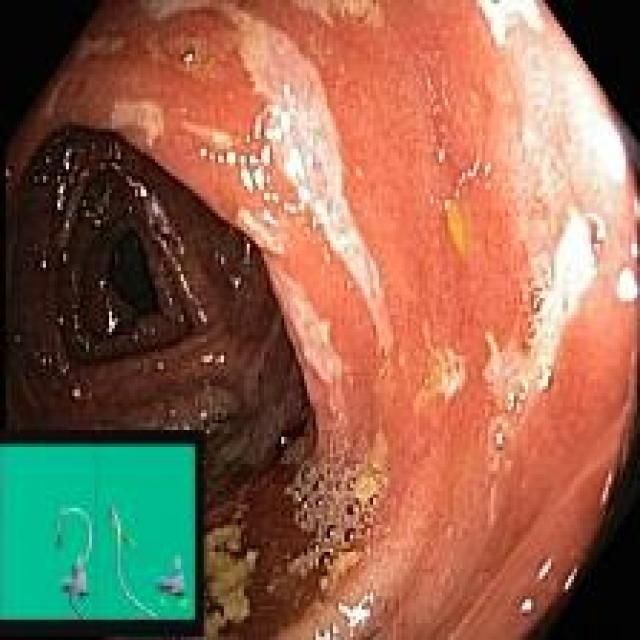ulcerative-colitis-grade-3: (9, 3, 640, 638)
